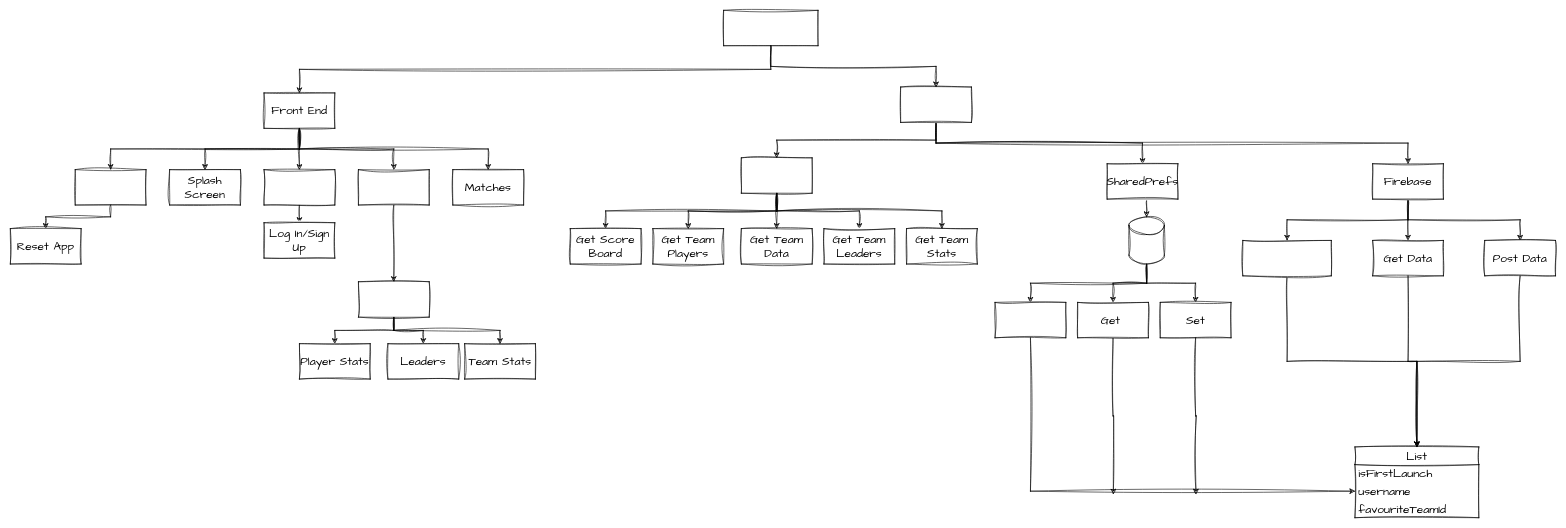
This 1566x528 diagram has some shape labels left out. Each missing label, with the centre of its shape:
Authentication: the point at 1286,258
Data: the point at 935,104
Disk: the point at 1146,240
ESPN: the point at 776,175
Favourite Team Stats: the point at 393,299
Home: the point at 393,187
Keys: the point at 1030,320
NBA Stats App: the point at 770,28
On Boarding: the point at 299,187
Settings: the point at 110,187
